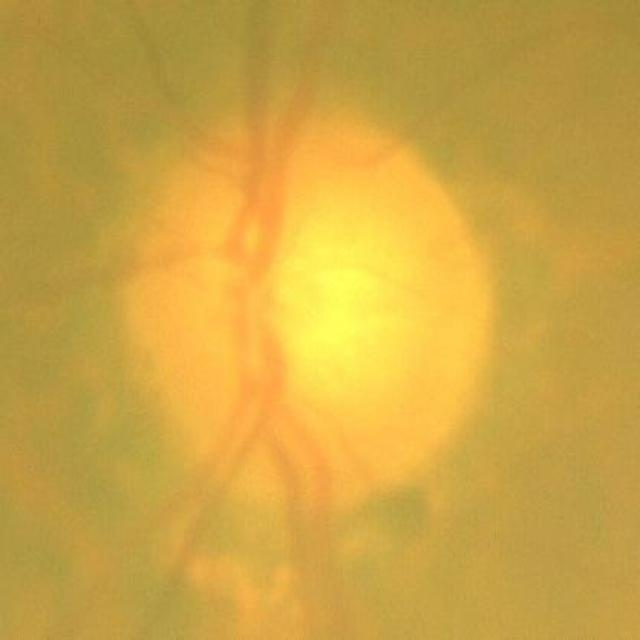OC: (236, 200, 408, 378)
OD: (130, 105, 489, 523)
